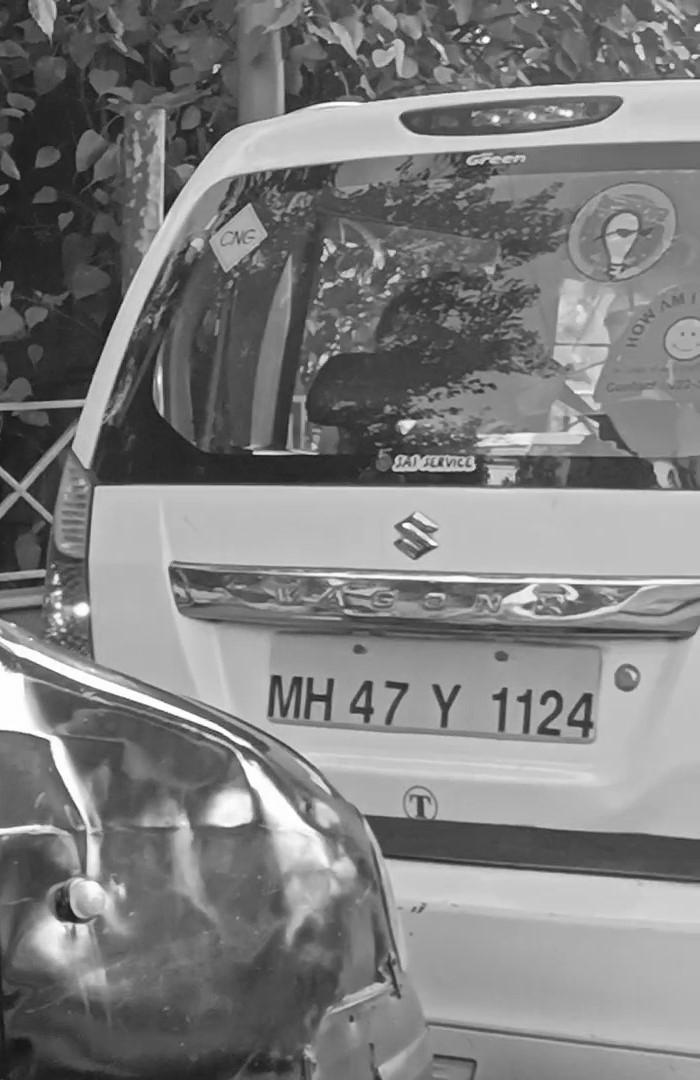number_plate: (271, 628, 602, 747)
